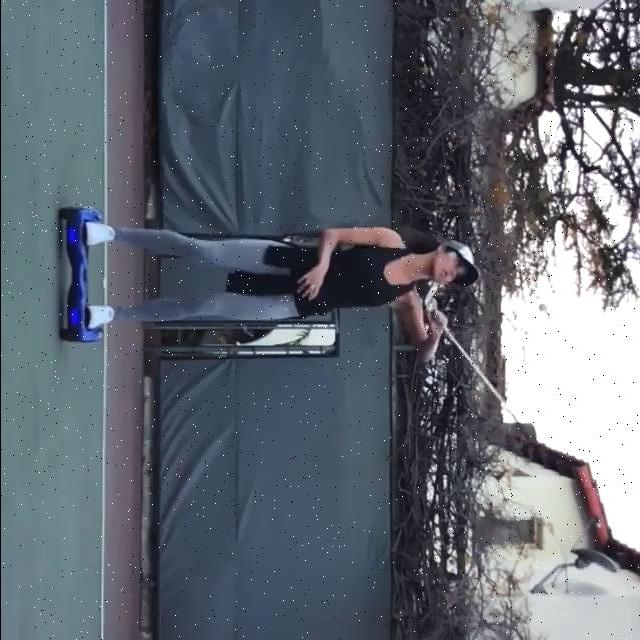golf club-handle: (420, 279, 551, 463)
golf club-head: (422, 282, 439, 307)
